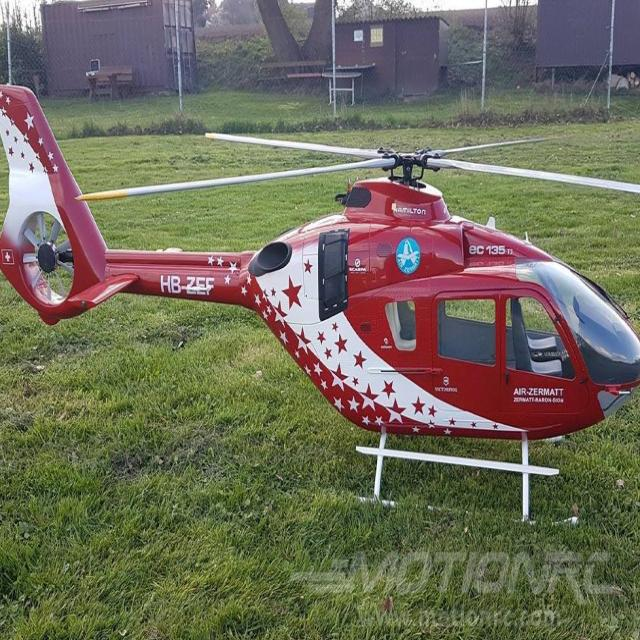helicopter: (1, 83, 640, 529)
